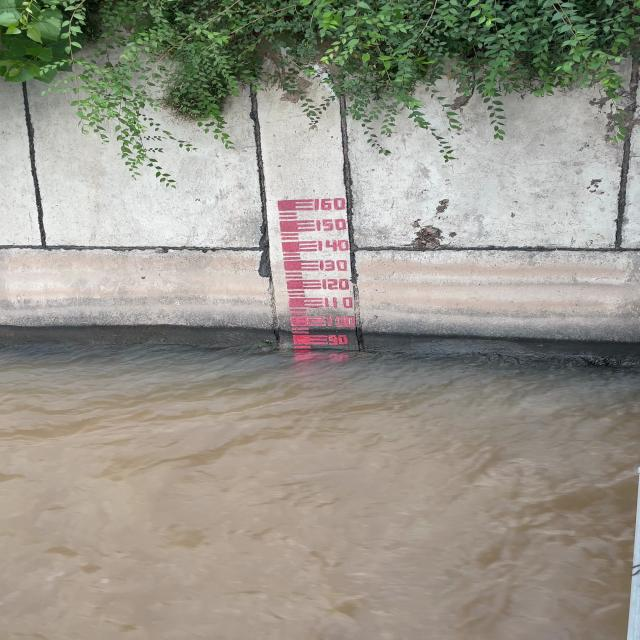ruler: (269, 193, 366, 352)
value: (311, 195, 350, 213), (312, 216, 353, 233), (315, 237, 353, 253), (321, 295, 358, 310), (316, 258, 352, 273), (324, 315, 361, 329), (318, 277, 353, 291), (323, 334, 352, 346)
